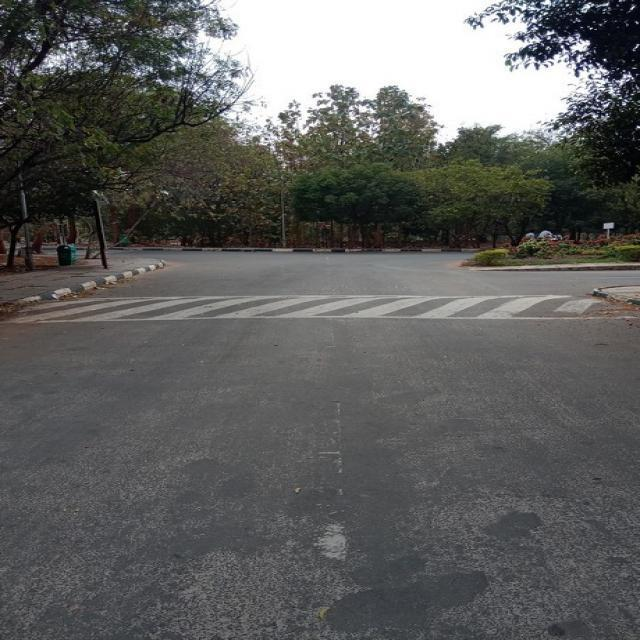speedbreaker: (61, 294, 625, 324)
